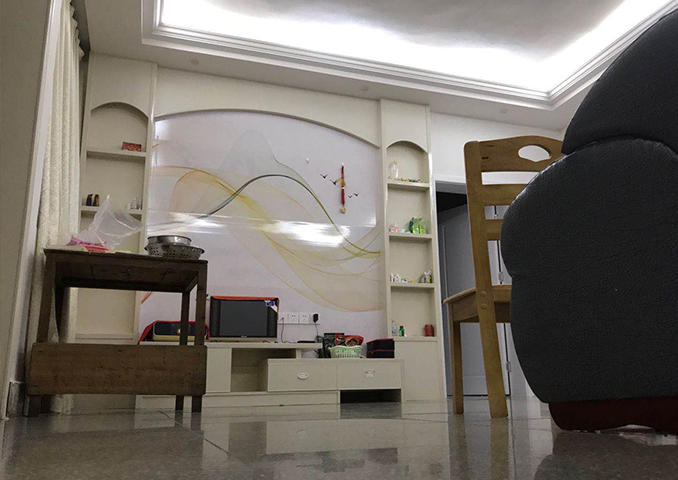cabinet: (205, 330, 448, 419)
curtain: (22, 1, 78, 418)
stool: (446, 137, 560, 429)
table: (19, 247, 204, 417)
